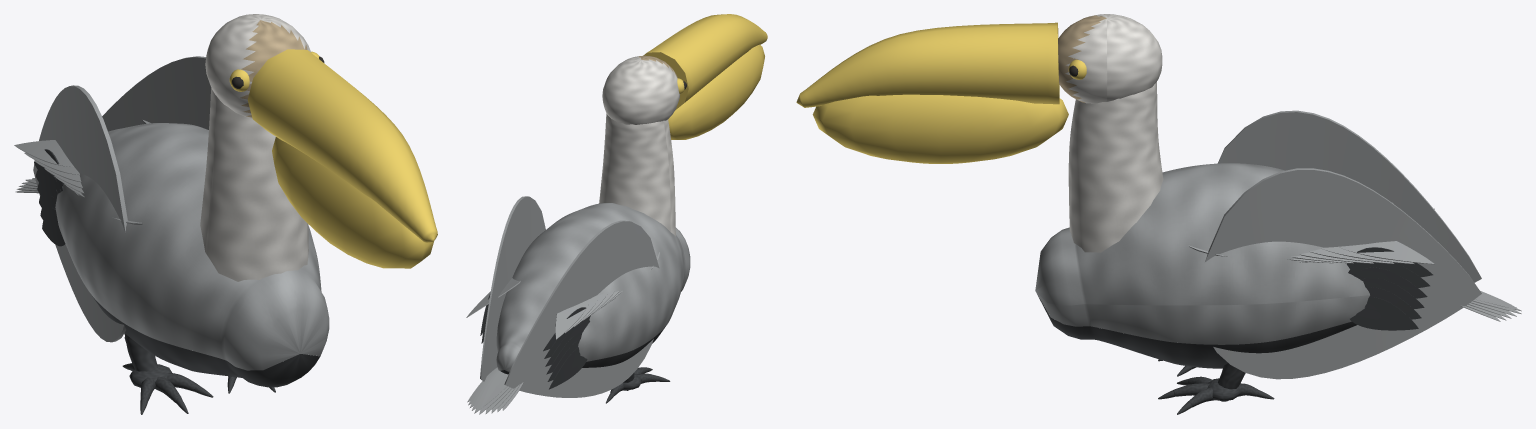
File: birds-and-reptiles-hd-brown-pelican-cd8a83f4__28085.glb
The picture shows the model from 3 angles, left to right: view 1: azimuth 30°, elevation 25°; view 2: azimuth 150°, elevation 25°; view 3: azimuth 270°, elevation 25°; orthographic projection. The views are drawn at different scales.
Parts seen in each view (by area): view 1: brown-pelican; view 2: brown-pelican; view 3: brown-pelican.
Boxes of the visible parts, x1,y1,x2,y2 form: brown-pelican: [14, 14, 437, 414]; brown-pelican: [466, 14, 767, 414]; brown-pelican: [796, 14, 1521, 414].
Bounding box in the file's own units: 0.3923 × 0.8499 × 1.54.
Materials: 6 (4 with a texture image).
